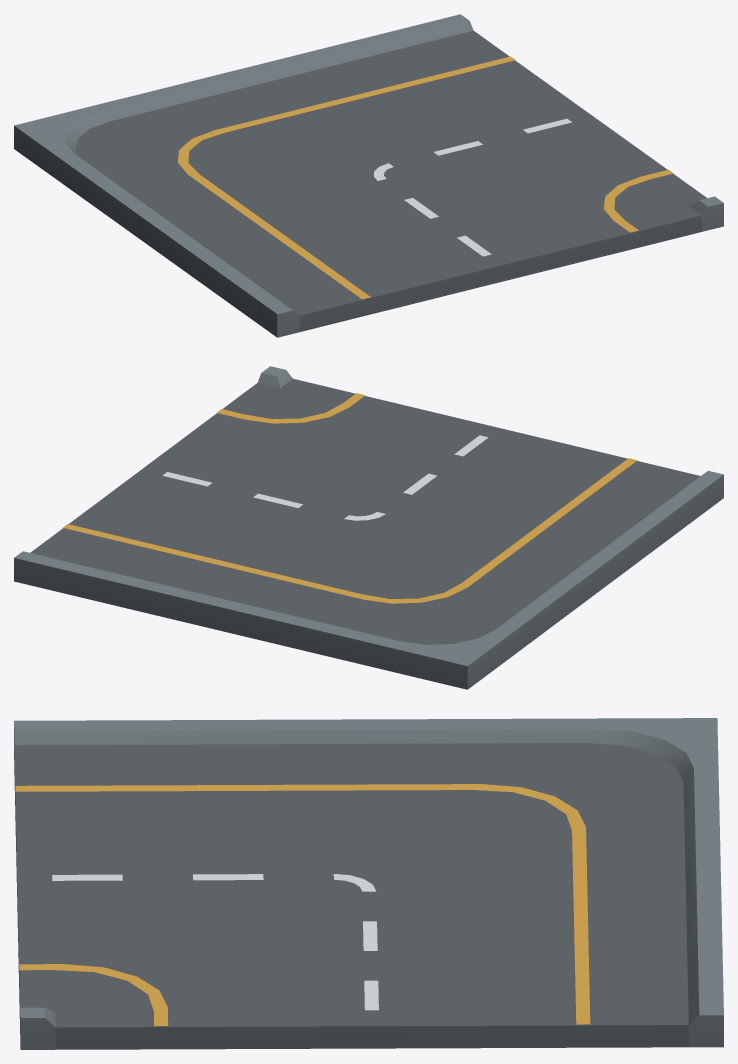
Rendered from road_corner.002_lev3.glb.
3 views of the same model, one above another, from view 1: azimuth 30°, elevation 25°; view 2: azimuth 150°, elevation 25°; view 3: azimuth 270°, elevation 25° (orthographic). The views are drawn at different scales.
Parts seen in each view (by area): view 1: road_corner.002_lev3; view 2: road_corner.002_lev3; view 3: road_corner.002_lev3.
Part boxes in pixels (x1,y1,x2,y2): road_corner.002_lev3: [14, 14, 723, 337]; road_corner.002_lev3: [14, 366, 723, 689]; road_corner.002_lev3: [14, 718, 723, 1049].
Bounding box in the file's own units: 8.89 × 0.4406 × 8.89.
Materials: 1 (1 with a texture image).
